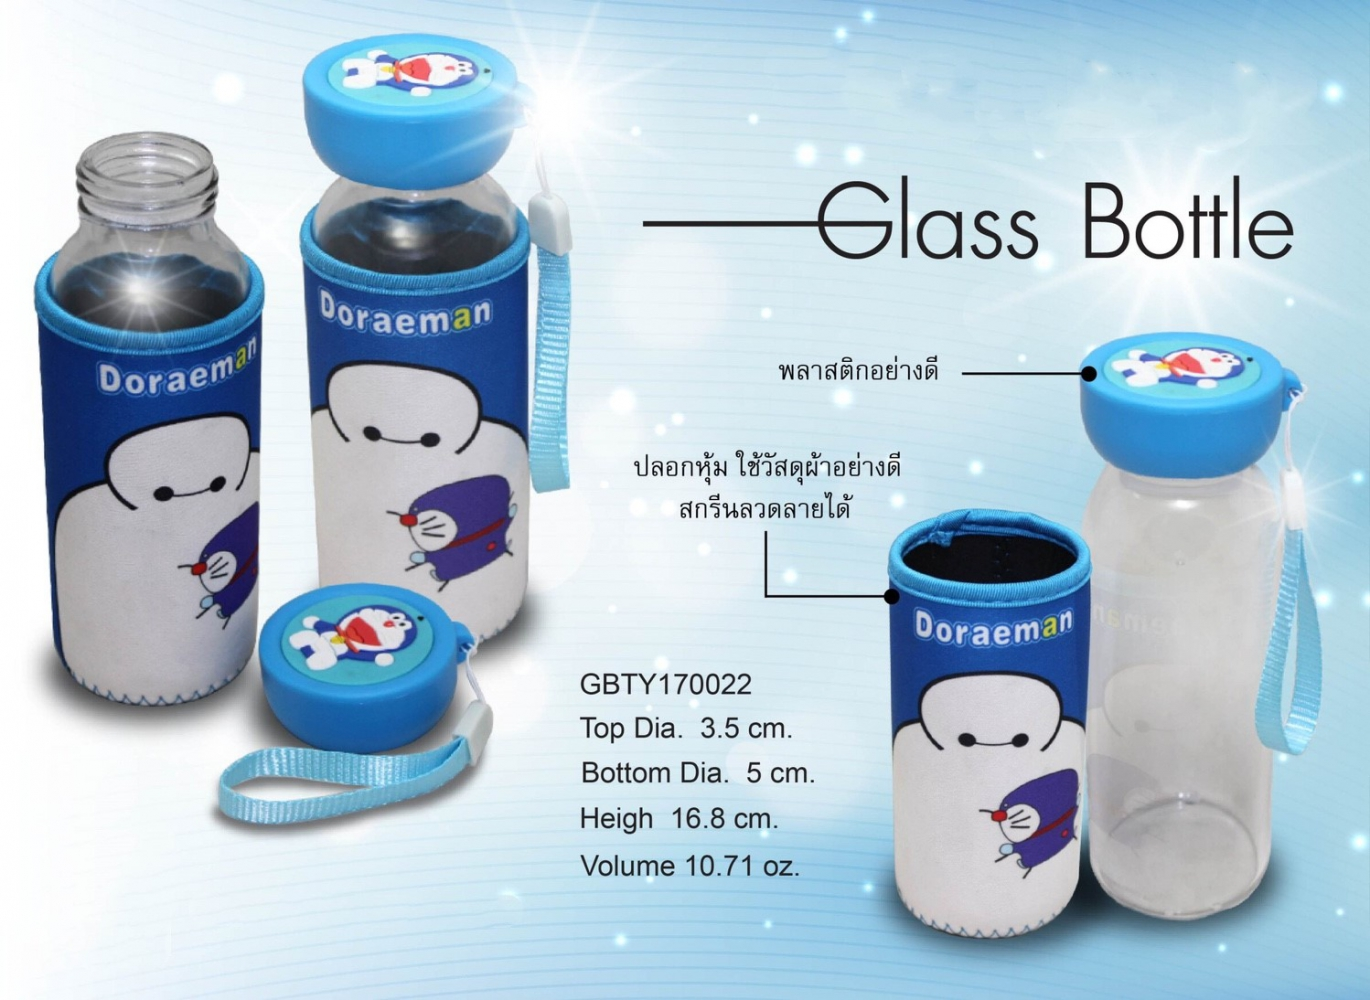glass_bottle: (33, 126, 271, 716)
